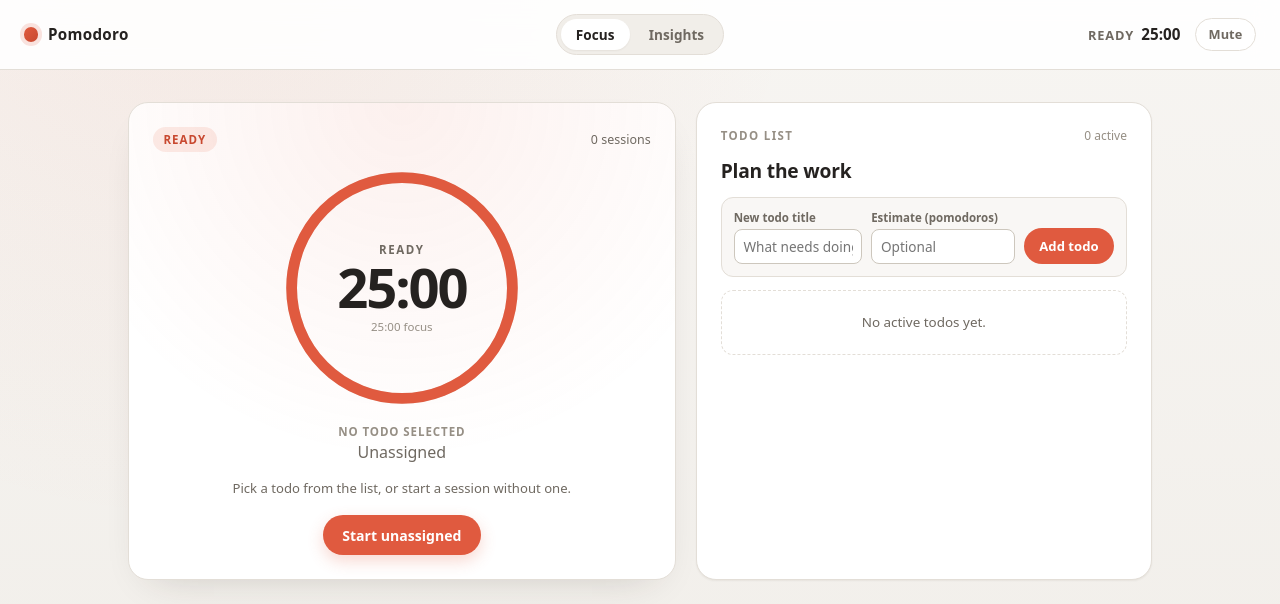
Test case: App › clears a command error after a successful todo command
Expected: the button "Start unassigned" is shown, [323,515,481,555]
Click the button "Mute" at (1225, 34), box [1195,18,1256,51]
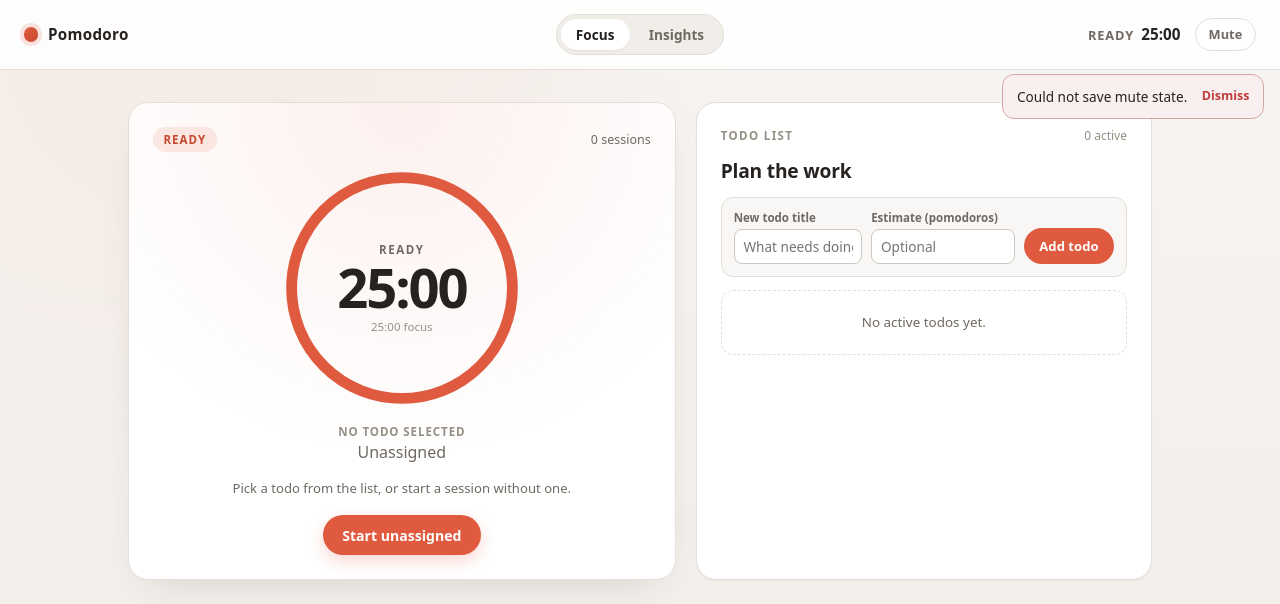
Now the text "Could not save mute state." is shown, box [1017,87,1187,106]
Type "Clean up" into the field labelled "New todo title" at (798, 246), box [734,229,862,264]
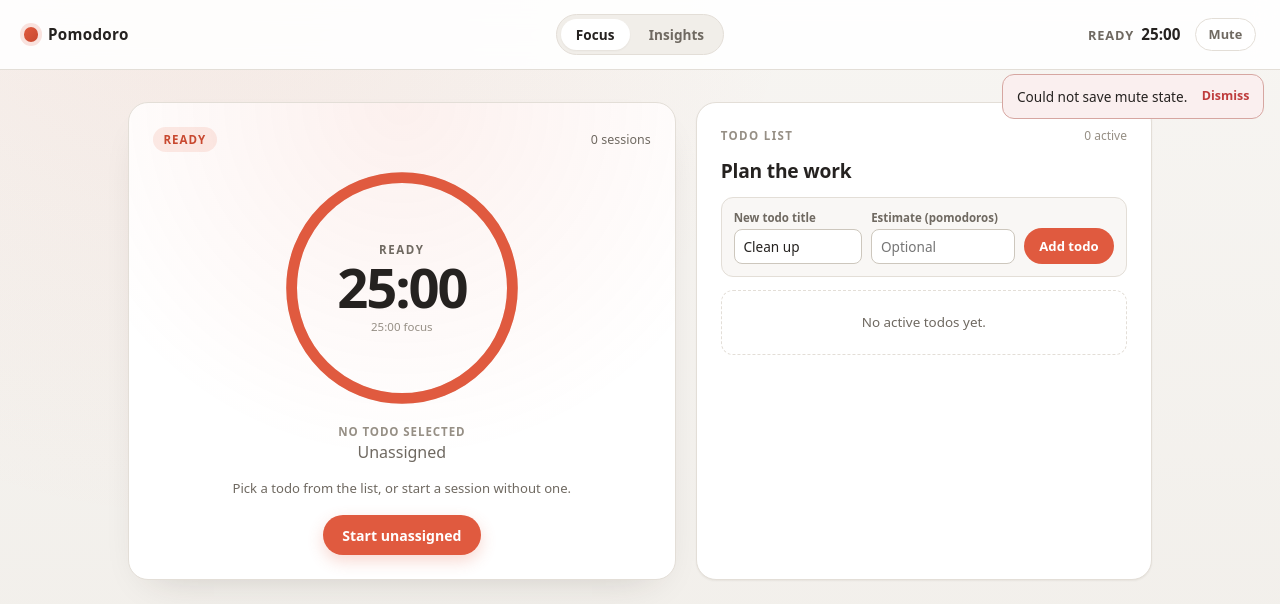
Click the button "Add todo" at (1069, 246), box [1024,228,1114,264]
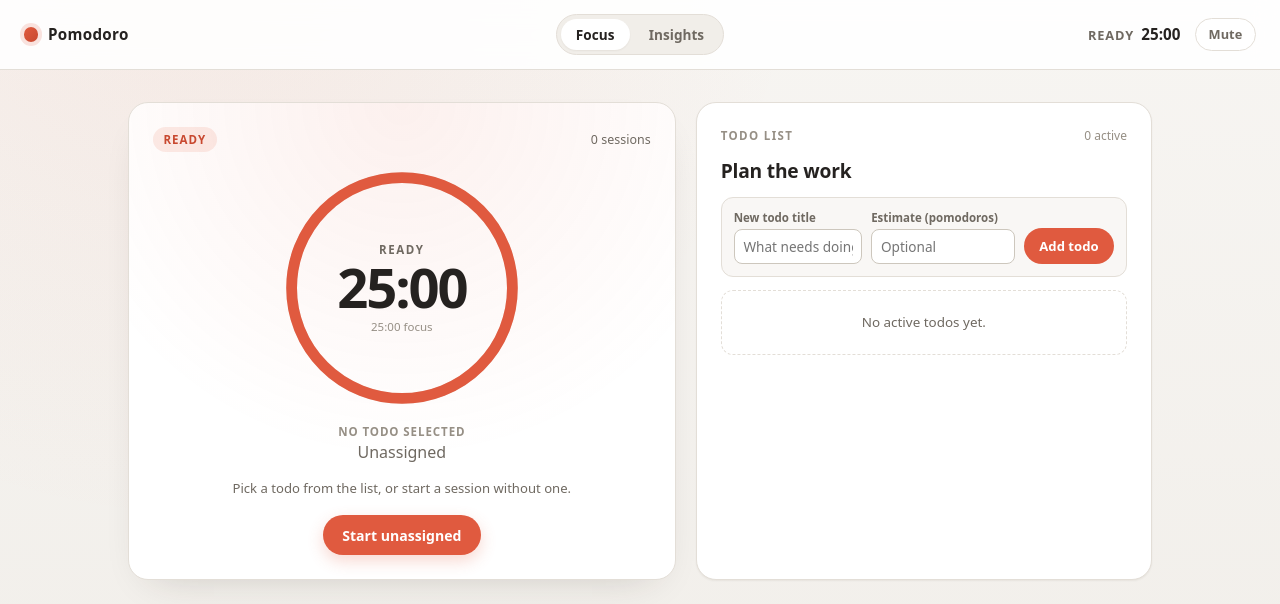
Now the text "Could not save mute state." is gone
